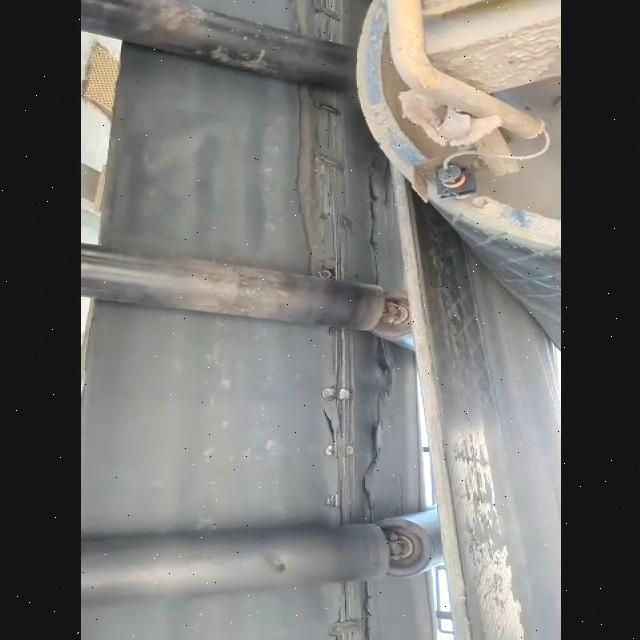Tear: (286, 85, 382, 282), (310, 320, 396, 531), (287, 0, 368, 51), (318, 578, 378, 640)
